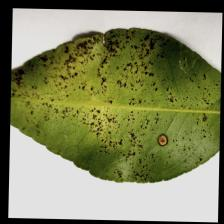canker: (54, 40, 153, 128)
